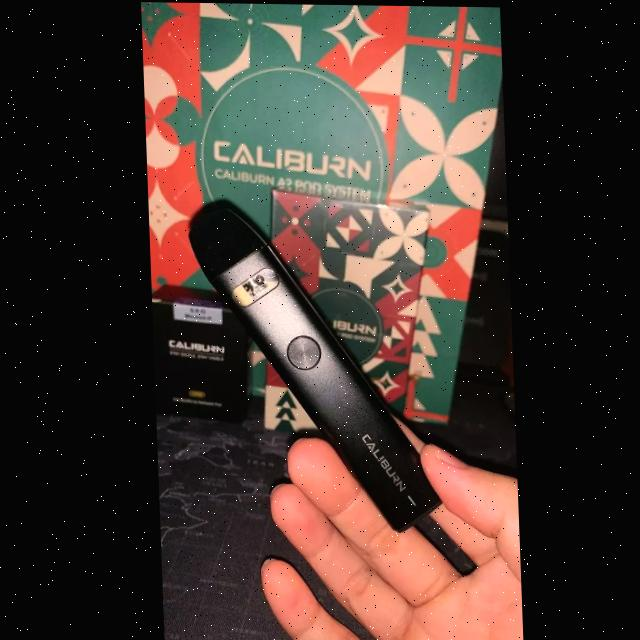vape: (185, 204, 438, 533)
